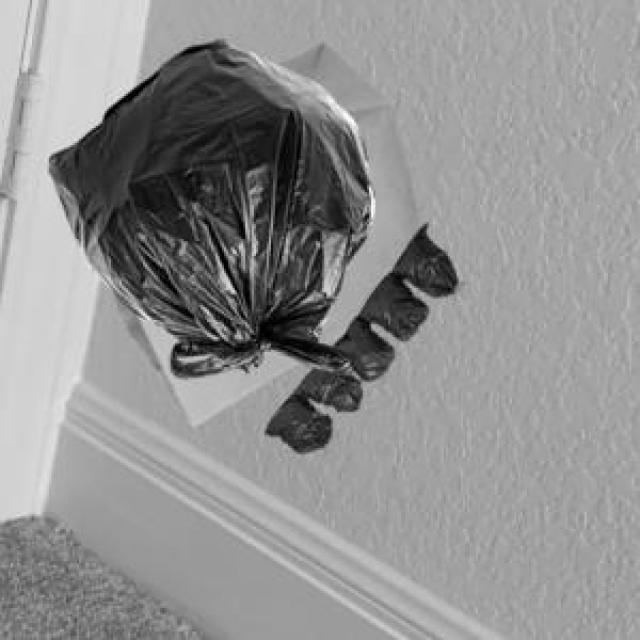miscellaneous trash: (45, 36, 371, 373), (264, 220, 454, 448)
paper: (108, 38, 418, 422)
